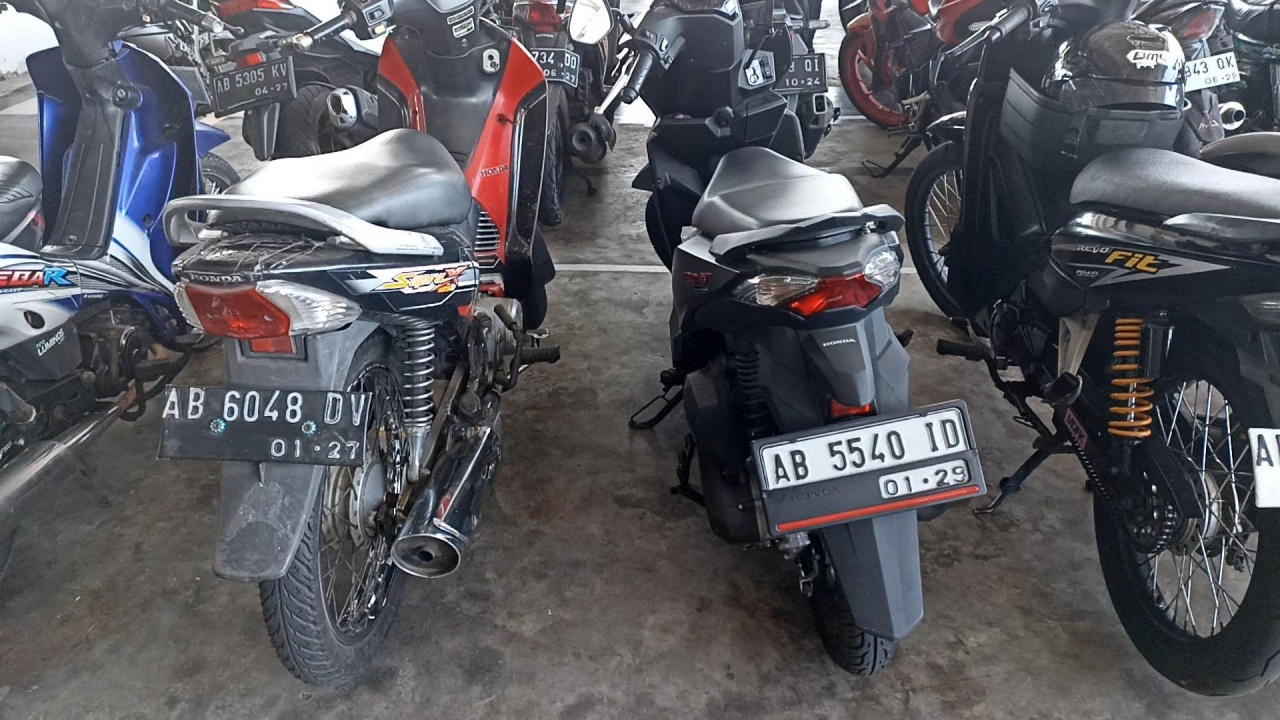plate: (758, 403, 984, 534), (158, 383, 371, 466)
